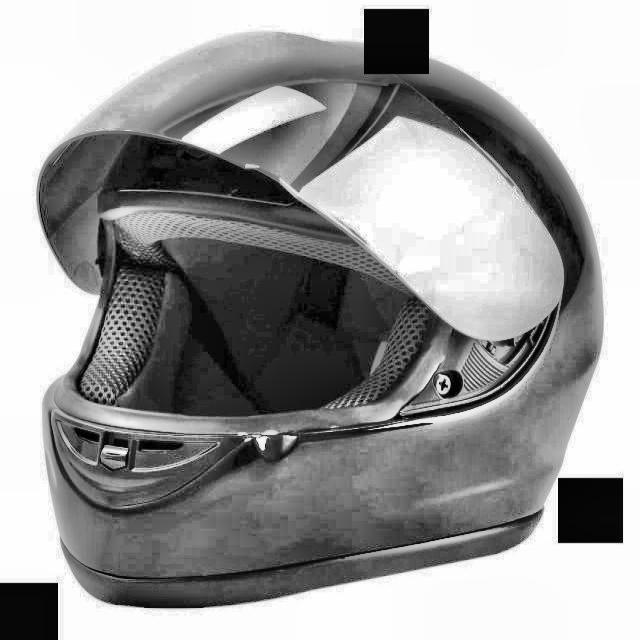Helmet: (30, 36, 615, 611)
